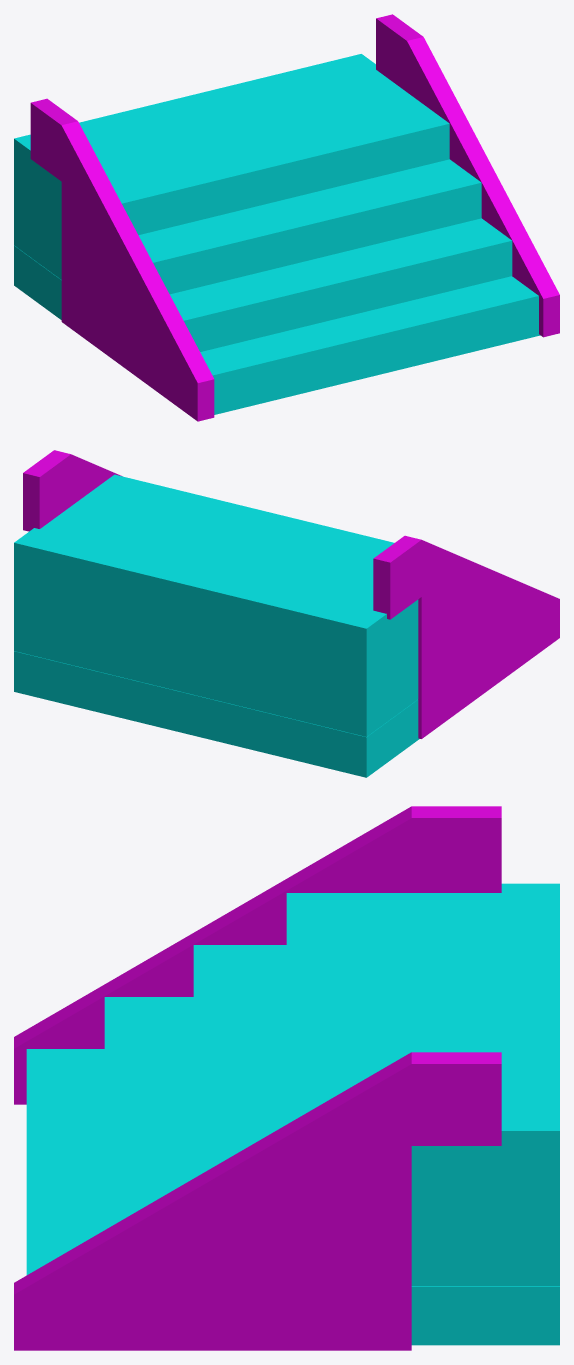
The model's file is Stears.fbx.
The picture shows the model from 3 angles, top to bottom: view 1: azimuth 30°, elevation 25°; view 2: azimuth 150°, elevation 25°; view 3: azimuth 270°, elevation 25°; orthographic projection. The views are drawn at different scales.
Visible parts, largest first — view 1: polySurface187_Ext_3, polySurface246, windows2:polySurface187_Ext_1, polySurface187_Ext_2, polySurface187_Ext_1, polySurface245; view 2: polySurface187_Ext_3, polySurface246, windows2:polySurface187_Ext_1, polySurface187_Ext_2, polySurface187_Ext_1, polySurface245; view 3: polySurface245, polySurface187_Ext_3, polySurface187_Ext_2, polySurface187_Ext_1, polySurface246, windows2:polySurface187_Ext_1.
Part boxes in pixels (x1=…): polySurface187_Ext_3: x1=14, y1=54, x2=449, y2=235; polySurface246: x1=30, y1=98, x2=214, y2=421; windows2:polySurface187_Ext_1: x1=14, y1=245, x2=540, y2=414; polySurface187_Ext_2: x1=14, y1=159, x2=481, y2=294; polySurface187_Ext_1: x1=14, y1=210, x2=512, y2=351; polySurface245: x1=376, y1=14, x2=559, y2=337; polySurface187_Ext_3: x1=14, y1=474, x2=418, y2=664; polySurface246: x1=373, y1=535, x2=559, y2=738; windows2:polySurface187_Ext_1: x1=14, y1=651, x2=419, y2=777; polySurface187_Ext_2: x1=14, y1=579, x2=418, y2=701; polySurface187_Ext_1: x1=14, y1=615, x2=418, y2=736; polySurface245: x1=23, y1=450, x2=122, y2=531; polySurface245: x1=14, y1=1052, x2=501, y2=1350; polySurface187_Ext_3: x1=286, y1=883, x2=559, y2=1182; polySurface187_Ext_2: x1=193, y1=945, x2=559, y2=1234; polySurface187_Ext_1: x1=104, y1=997, x2=559, y2=1286; polySurface246: x1=14, y1=806, x2=501, y2=1104; windows2:polySurface187_Ext_1: x1=26, y1=1049, x2=559, y2=1345.
Size of the model in its own units: 215 by 113 by 193.
